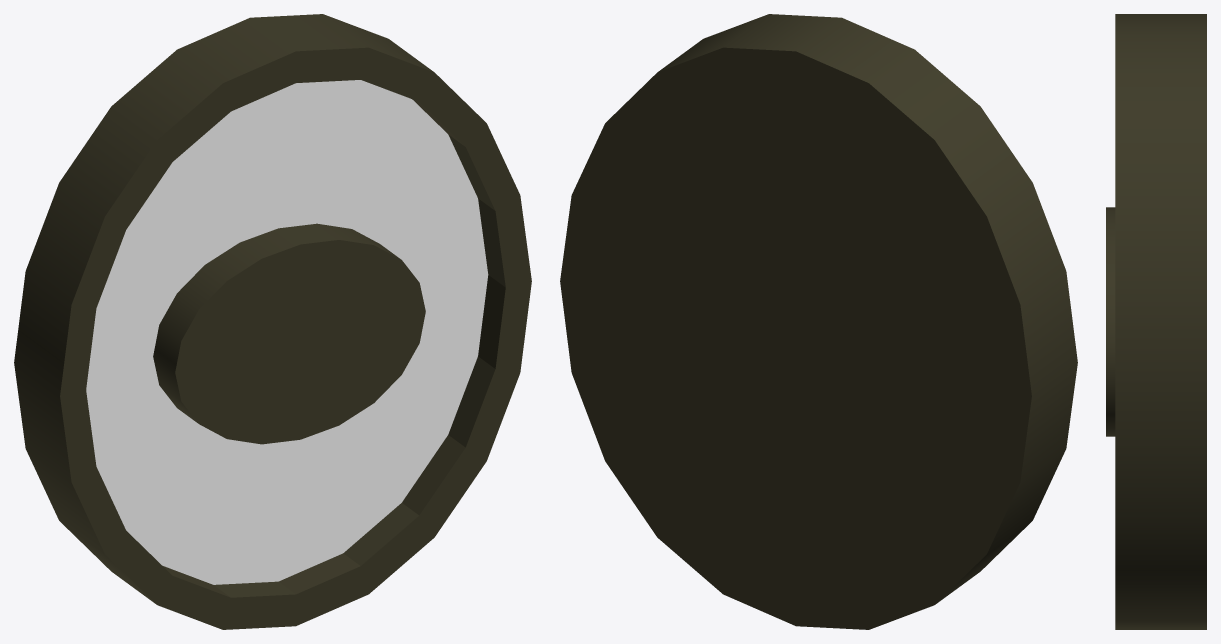
Rendered from eye1-3.fbx.
The picture shows the model from 3 angles, left to right: view 1: azimuth 30°, elevation 25°; view 2: azimuth 150°, elevation 25°; view 3: azimuth 270°, elevation 25°; orthographic projection.
Visible parts, largest first — view 1: white_eye1_3, eye_ball1_3; view 2: white_eye1_3; view 3: white_eye1_3, eye_ball1_3.
Part boxes in pixels (x1=…): white_eye1_3: x1=14, y1=14, x2=531, y2=629; eye_ball1_3: x1=153, y1=223, x2=425, y2=444; white_eye1_3: x1=560, y1=14, x2=1077, y2=629; white_eye1_3: x1=1115, y1=14, x2=1206, y2=629; eye_ball1_3: x1=1106, y1=207, x2=1115, y2=436.
Size of the model in its own units: 1.26 by 1.46 by 0.233.
